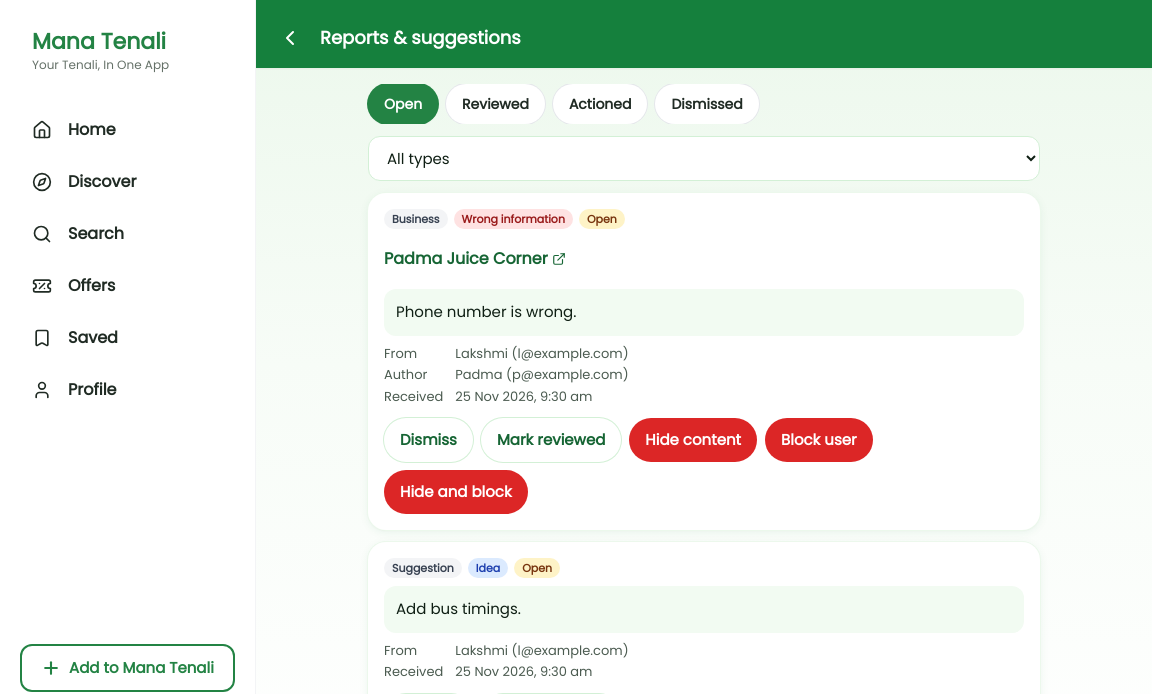
Test: reports queue (FR-ADM-1) › lists open reports and hides content after confirmation, with a note
Expected: the text "Phone number is wrong." is shown, [384, 289, 1024, 336]
Expected: the text "Lakshmi (l@example.com)" below "Business" is shown, [455, 344, 629, 362]
Click the button with aria-label "Hide content - Padma Juice Corner" at (693, 440), box [629, 418, 757, 462]
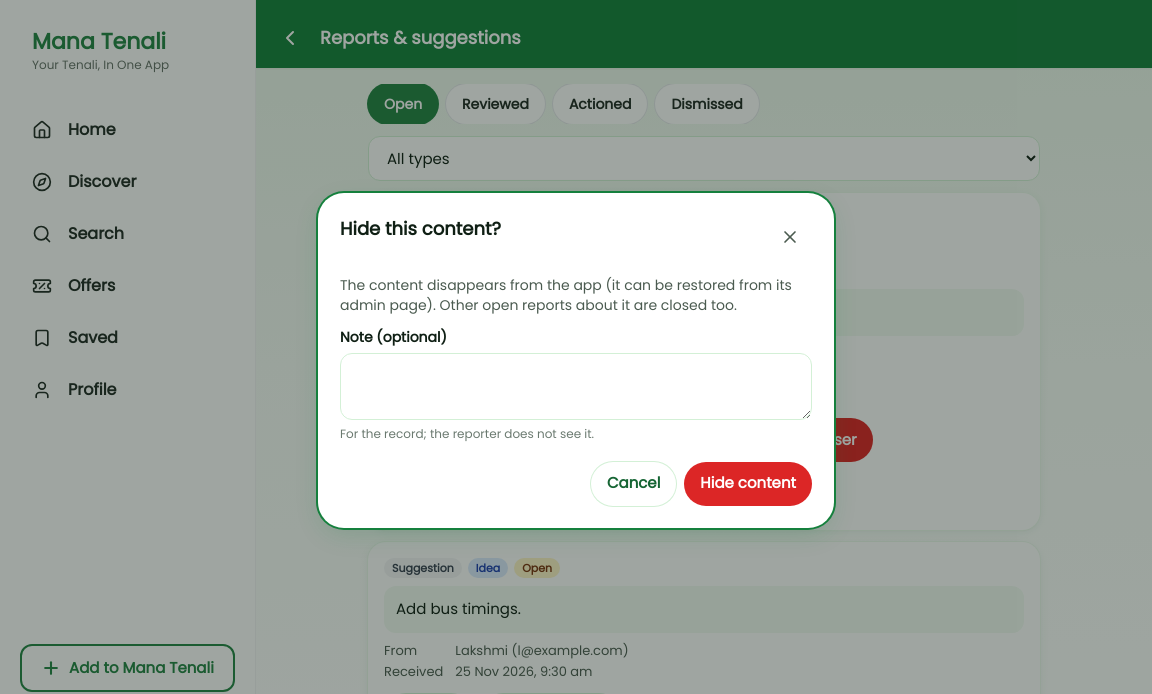
Type "Confirmed by phone." into the text box labelled "Note (optional)" at (576, 386), box [340, 352, 812, 420]
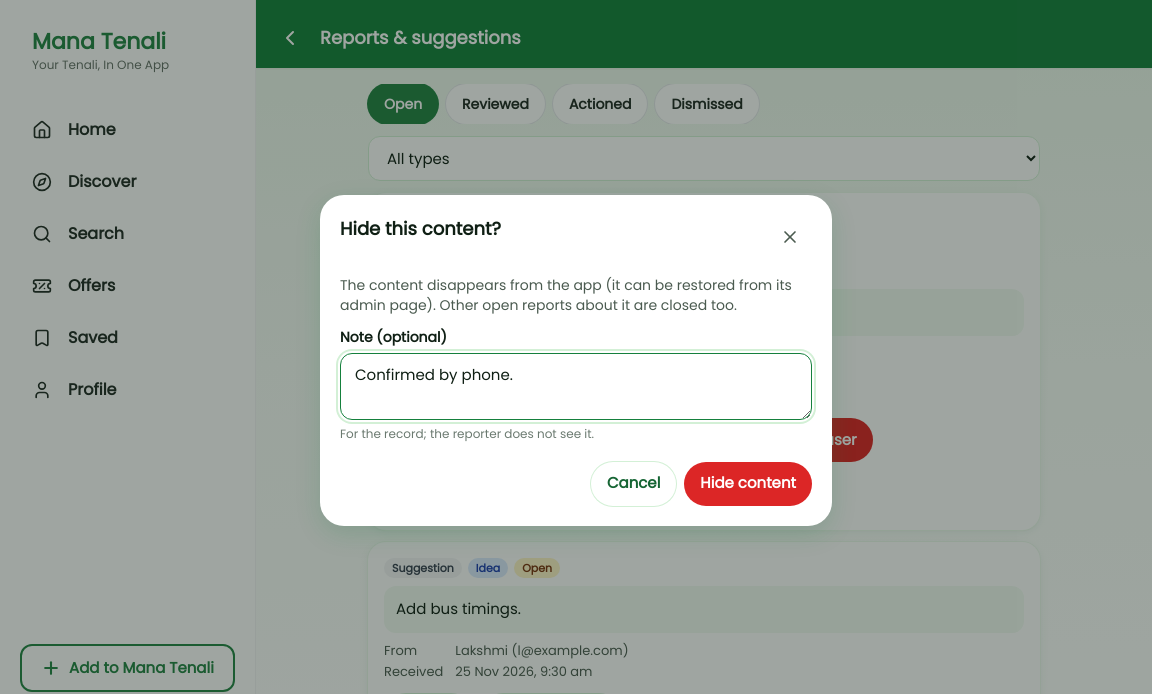
Click the button "Hide content" at (748, 484), box [684, 462, 812, 506]
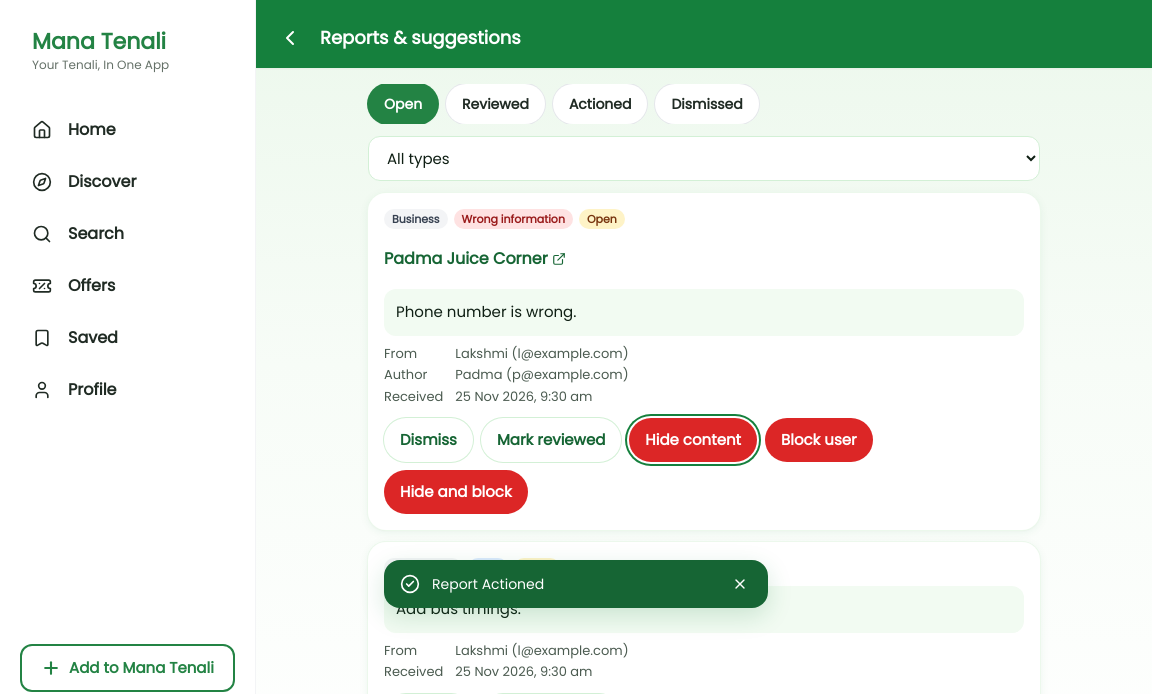
Now the text "Report Actioned" is shown, box [432, 574, 544, 594]
